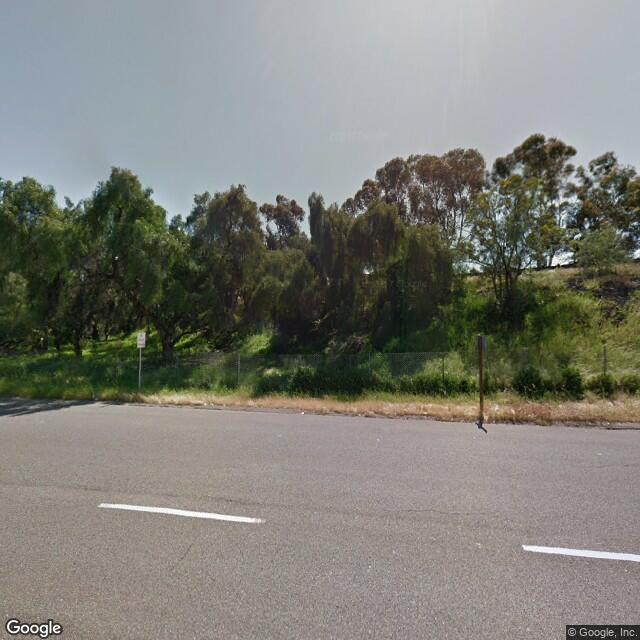litter: (294, 407, 308, 414)
